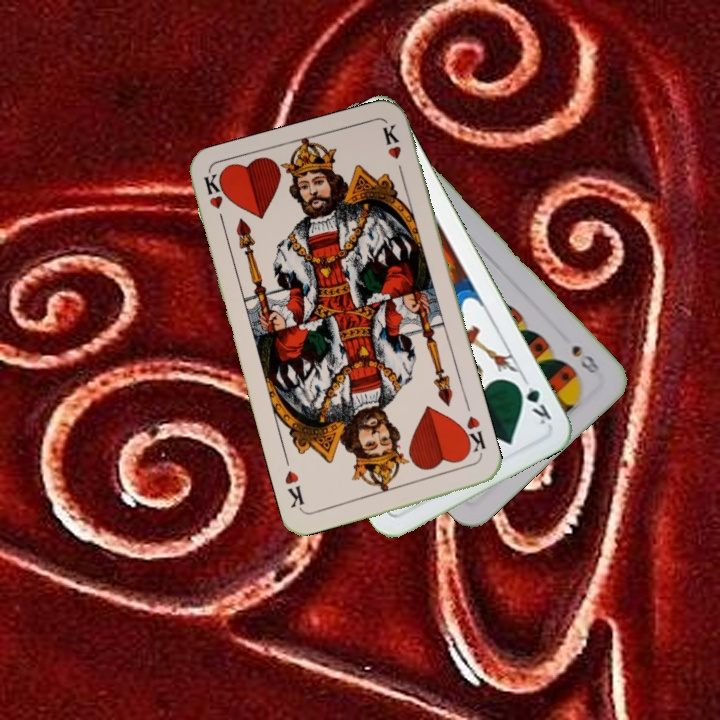GK: (511, 373, 555, 428)
HK: (199, 171, 229, 230), (456, 412, 488, 461)
S8: (567, 341, 603, 377)
